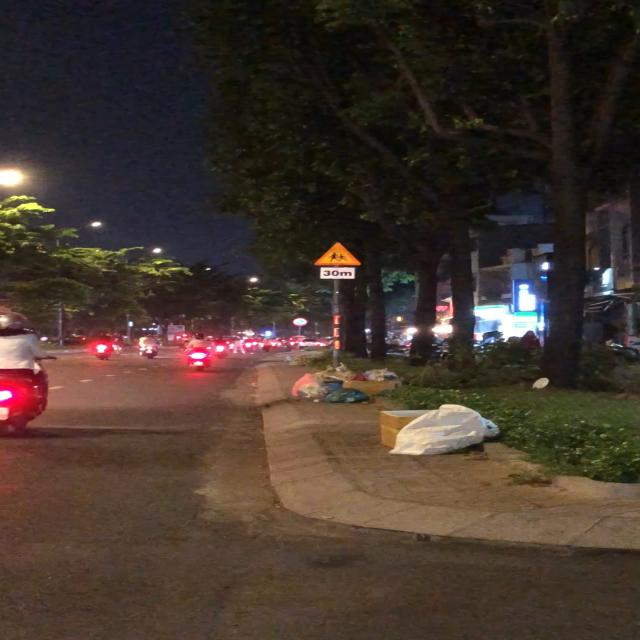Bien bao tre em: (310, 239, 362, 267)
